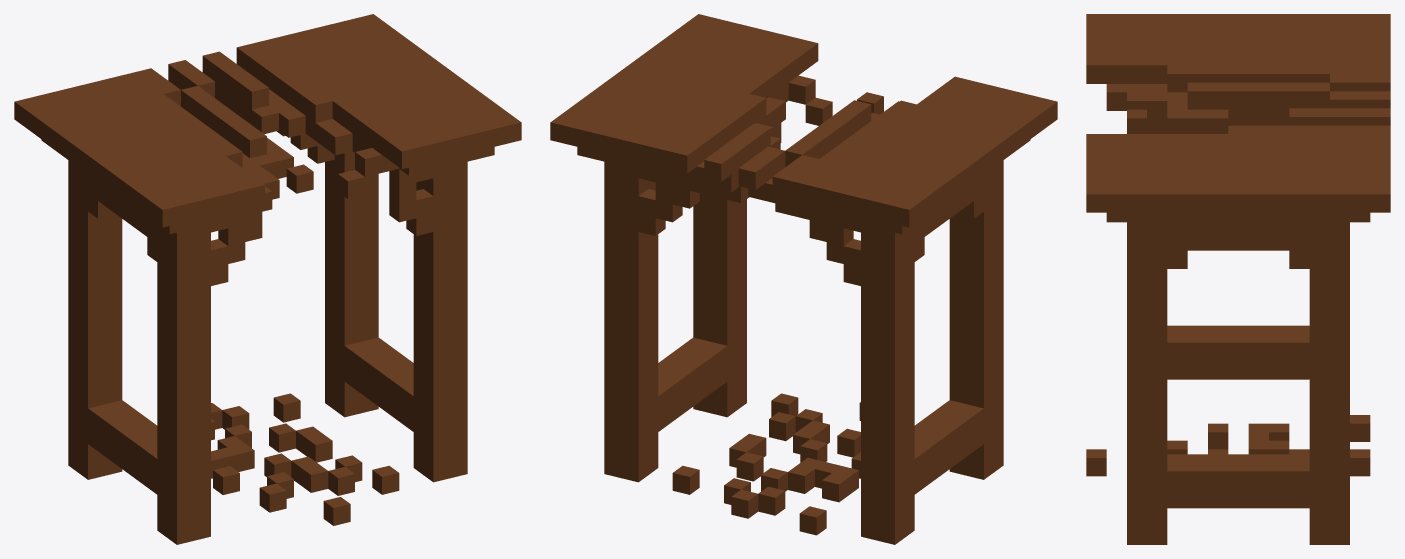
The model's file is chaise du piano brise.obj.
3 renders of one model, left to right at view 1: azimuth 30°, elevation 25°; view 2: azimuth 150°, elevation 25°; view 3: azimuth 270°, elevation 25°, orthographic. The views are drawn at different scales.
Visible parts, largest first — view 1: chaise du piano brise; view 2: chaise du piano brise; view 3: chaise du piano brise.
Boxes of the visible parts, x1,y1,x2,y2 form: chaise du piano brise: (14,14,521,544); chaise du piano brise: (550,14,1057,544); chaise du piano brise: (1086,14,1390,544).
Bounding box in the file's own units: 21 × 20 × 15.
1 material, 1 textured.
